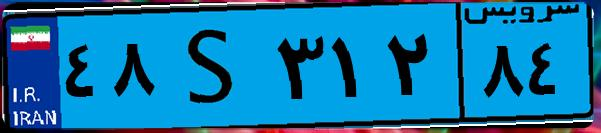1: (330, 28, 385, 110)
2: (385, 28, 445, 110)
3: (270, 28, 330, 110)
4: (57, 26, 110, 100), (525, 38, 570, 115)
8: (475, 38, 525, 113), (110, 28, 158, 98)
S: (158, 12, 270, 120)
